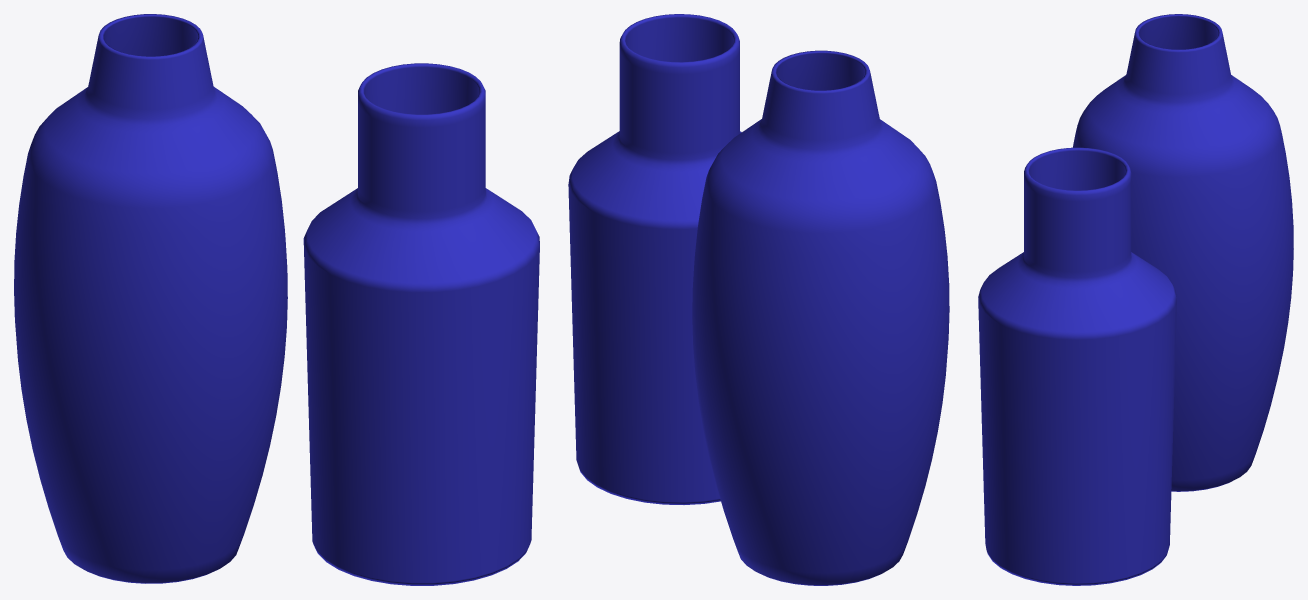
The model's file is Jars.glb.
3 renders of one model, left to right at view 1: azimuth 30°, elevation 25°; view 2: azimuth 150°, elevation 25°; view 3: azimuth 270°, elevation 25°, orthographic. The views are drawn at different scales.
Parts seen in each view (by area): view 1: decor_002; view 2: decor_002; view 3: decor_002.
Part boxes in pixels (<box>): decor_002: <box>14,14,539,585</box>; decor_002: <box>568,14,949,585</box>; decor_002: <box>978,14,1293,585</box>.
Bounding box in the file's own units: 147 × 167 × 111.
